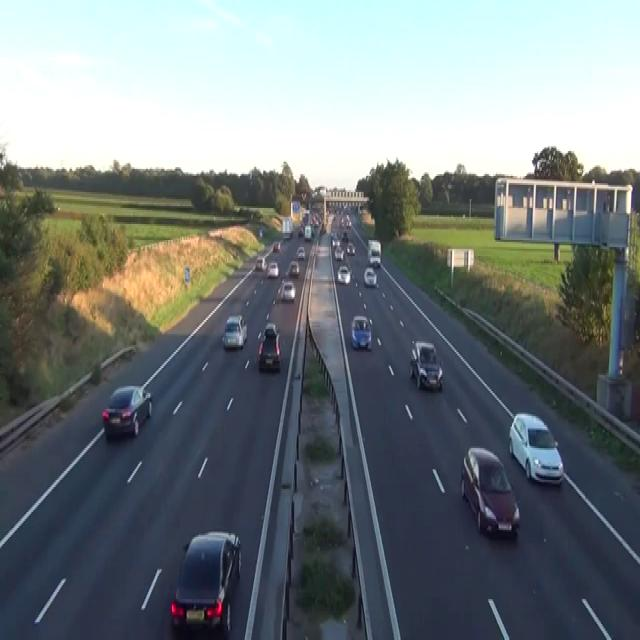Car: (170, 530, 241, 633), (460, 446, 520, 539), (508, 411, 564, 485), (101, 384, 152, 437), (409, 340, 443, 391), (257, 322, 281, 372), (221, 313, 247, 348), (350, 315, 371, 350), (279, 279, 295, 301), (363, 267, 377, 286), (337, 265, 350, 284), (264, 322, 278, 338), (367, 238, 381, 254), (266, 262, 279, 278), (288, 260, 300, 276), (339, 214, 351, 228), (255, 256, 266, 270), (334, 246, 344, 260), (296, 246, 305, 260), (346, 242, 355, 254), (311, 213, 319, 226), (332, 236, 340, 249), (319, 222, 326, 235), (345, 215, 351, 228), (282, 231, 290, 240), (367, 238, 373, 249), (297, 226, 303, 236), (273, 242, 280, 250), (342, 231, 348, 240), (339, 217, 344, 226), (259, 228, 262, 236)
Truck: (367, 238, 381, 267), (281, 217, 293, 238)
